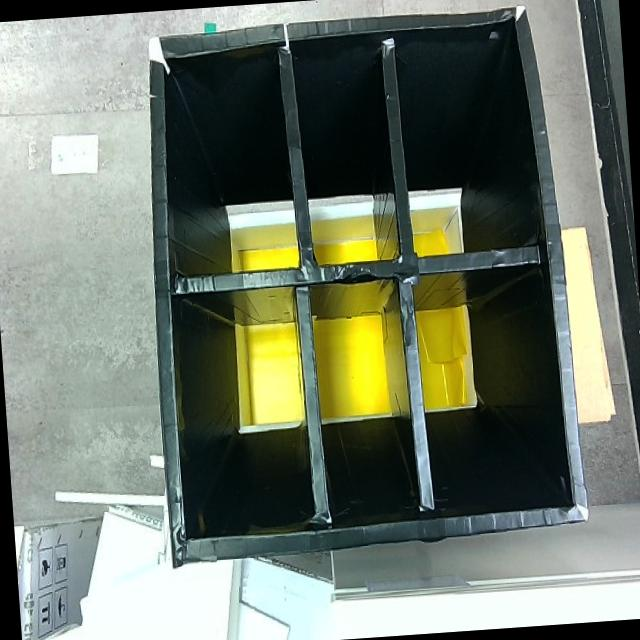box: (126, 0, 596, 564)
